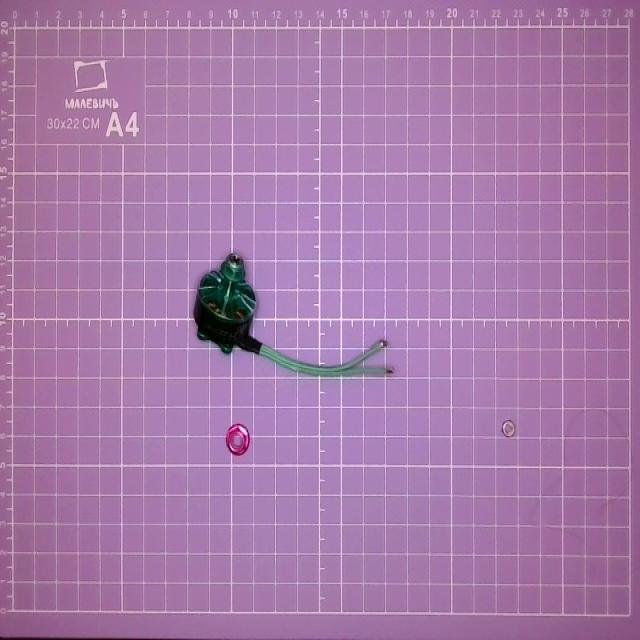motor: (192, 253, 403, 378)
screw_M3: (498, 414, 518, 442)
screw_M5: (222, 421, 254, 464)
